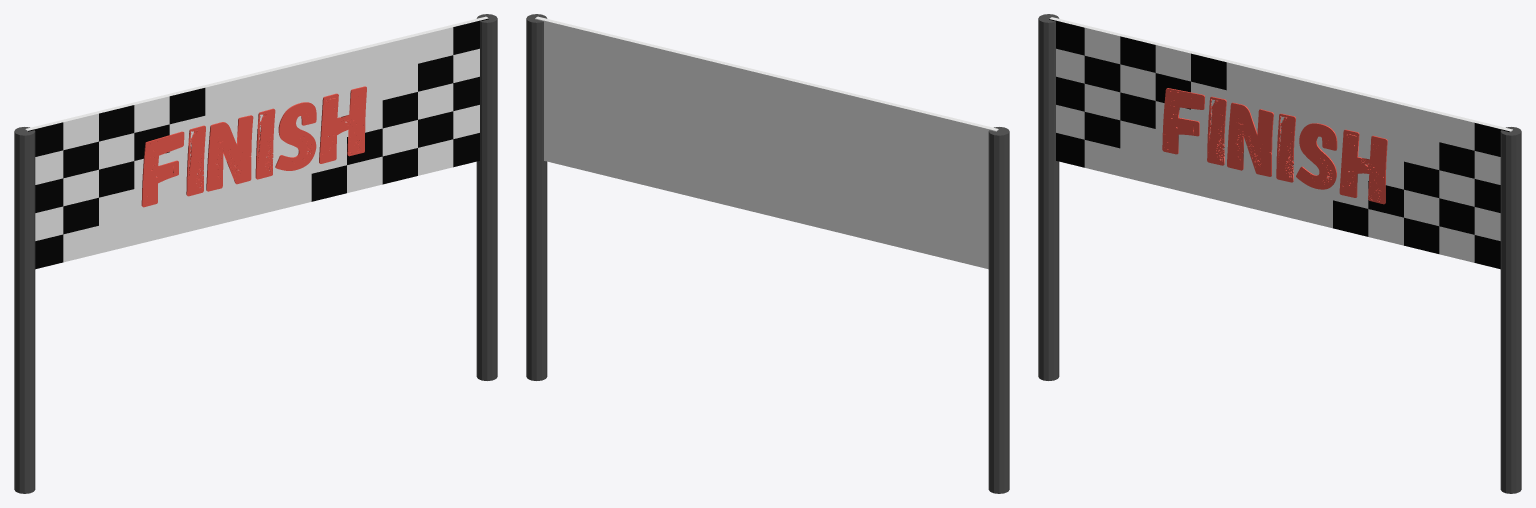
The model's file is FinishTransp.fbx.
The picture shows the model from 3 angles, left to right: view 1: azimuth 30°, elevation 25°; view 2: azimuth 150°, elevation 25°; view 3: azimuth 330°, elevation 25°; orthographic projection.
Parts seen in each view (by area): view 1: Cube.001, Text; view 2: Cube.001; view 3: Cube.001, Text.
Boxes of the visible parts, x1,y1,x2,y2 form: Cube.001: [14, 14, 497, 493]; Text: [141, 86, 366, 207]; Cube.001: [526, 14, 1009, 493]; Cube.001: [1038, 14, 1521, 493]; Text: [1162, 88, 1387, 204].
Bounding box in the file's own units: 421 × 301 × 16.
